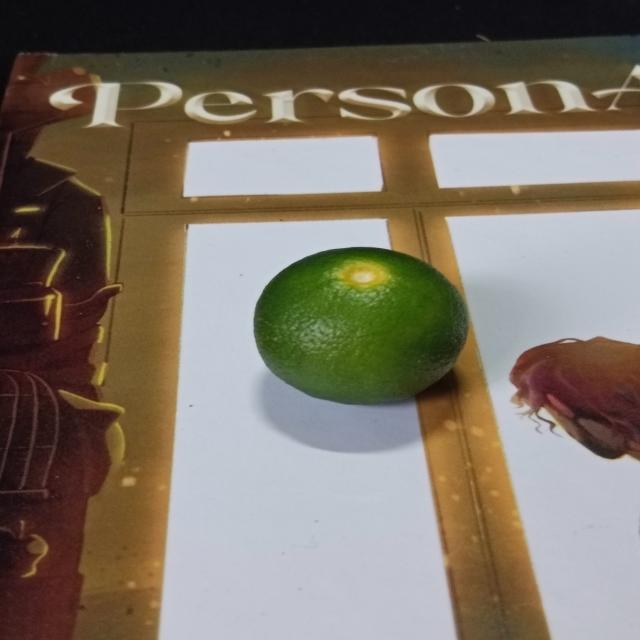heathy: (255, 246, 470, 400)
